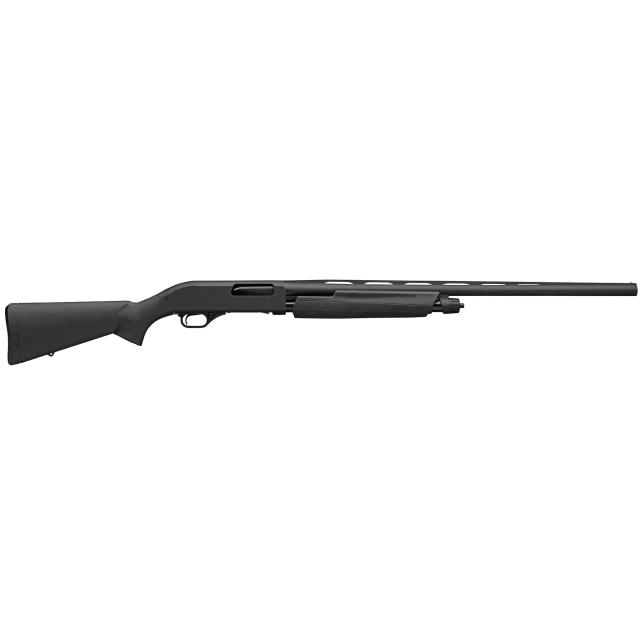Short-Gun: (5, 224, 640, 387)
